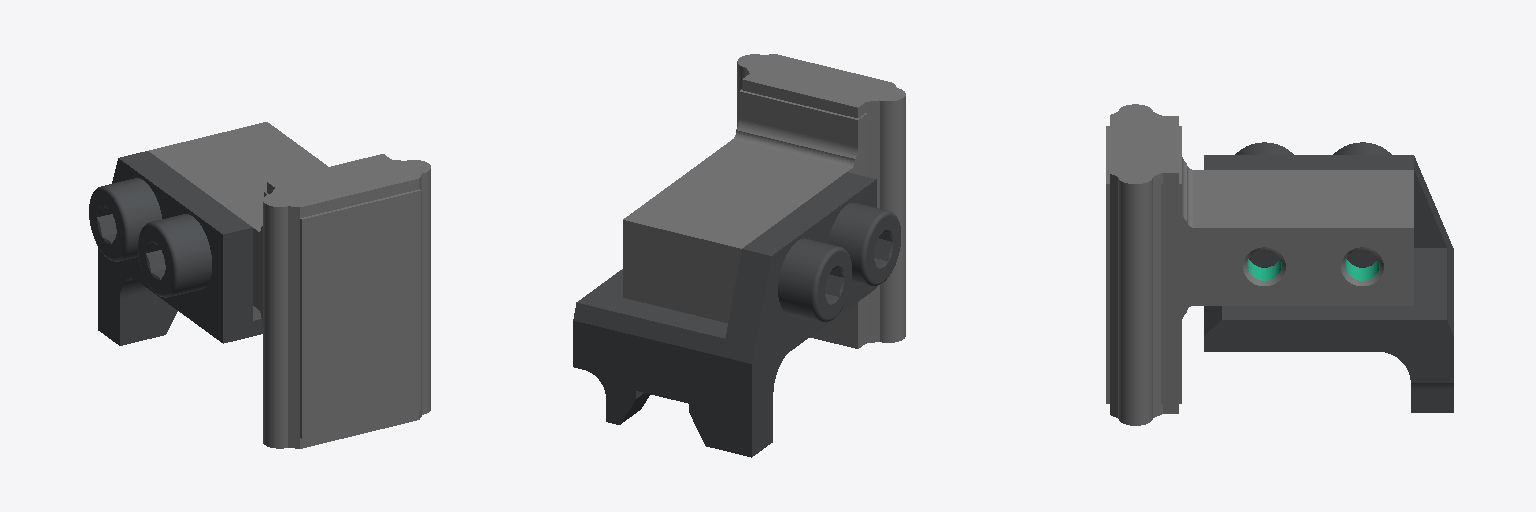
The model's file is 4231-05-2023-00_Megfogo_bal.obj.
The picture shows the model from 3 angles: view 1: azimuth 30°, elevation 25°; view 2: azimuth 150°, elevation 25°; view 3: azimuth 270°, elevation 25°; orthographic projection.
Parts seen in each view (by area): view 1: 4231_05_2023_00_Megfogo; view 2: 4231_05_2023_00_Megfogo; view 3: 4231_05_2023_00_Megfogo.
Part boxes in pixels (left/top/right/bottom): 4231_05_2023_00_Megfogo: left=89, top=122, right=430, bottom=448; 4231_05_2023_00_Megfogo: left=573, top=54, right=905, bottom=457; 4231_05_2023_00_Megfogo: left=1106, top=104, right=1453, bottom=425.
Bounding box in the file's own units: 14.5 × 15.5 × 20.2.